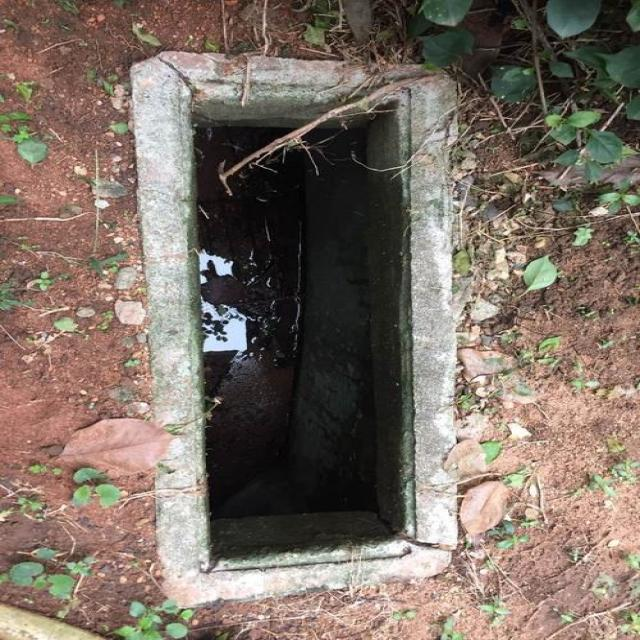manhole-cover: (181, 77, 412, 580)
